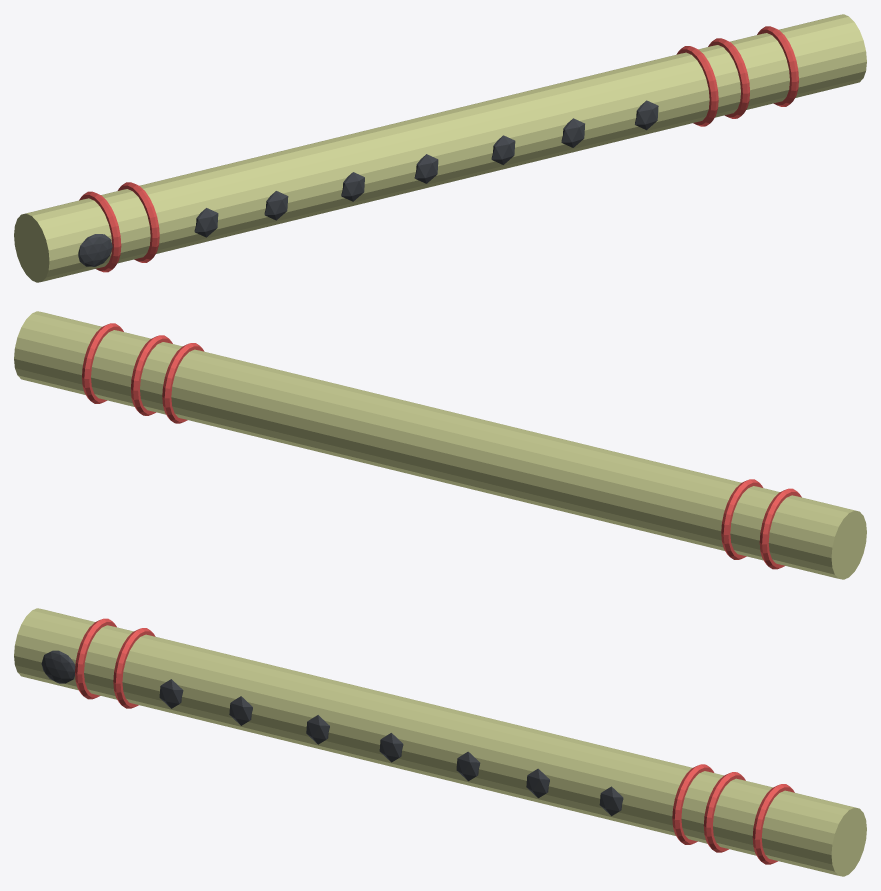
File: bamboo_takebue.glb
3 views of the same model, one above another, from view 1: azimuth 30°, elevation 25°; view 2: azimuth 150°, elevation 25°; view 3: azimuth 330°, elevation 25° (orthographic).
Visible parts, largest first — view 1: Dark lacquered shinobue tube, Shinobue red cord binding, Shinobue red cord binding.002, Shinobue red cord binding.004, Shinobue red cord binding.001, Shinobue red cord binding.003, Mouth hole, Finger hole on flute 3, Finger hole on flute 4; view 2: Dark lacquered shinobue tube, Shinobue red cord binding, Shinobue red cord binding.002, Shinobue red cord binding.004, Shinobue red cord binding.001, Shinobue red cord binding.003; view 3: Dark lacquered shinobue tube, Shinobue red cord binding, Shinobue red cord binding.002, Shinobue red cord binding.001, Shinobue red cord binding.003, Shinobue red cord binding.004, Mouth hole.
Part boxes in pixels (x1,y1,x2,y2): Dark lacquered shinobue tube: (14, 14, 866, 282); Shinobue red cord binding: (79, 191, 121, 272); Shinobue red cord binding.002: (676, 46, 718, 126); Shinobue red cord binding.004: (757, 26, 798, 106); Shinobue red cord binding.001: (117, 182, 159, 262); Shinobue red cord binding.003: (708, 38, 749, 118); Mouth hole: (78, 234, 112, 266); Finger hole on flute 3: (414, 154, 438, 183); Finger hole on flute 4: (491, 135, 515, 164); Dark lacquered shinobue tube: (14, 311, 866, 579); Shinobue red cord binding: (759, 488, 801, 569); Shinobue red cord binding.002: (162, 343, 204, 423); Shinobue red cord binding.004: (82, 323, 123, 403); Shinobue red cord binding.001: (721, 479, 763, 559); Shinobue red cord binding.003: (131, 335, 172, 415); Dark lacquered shinobue tube: (14, 608, 866, 876); Shinobue red cord binding: (75, 618, 116, 699); Shinobue red cord binding.002: (672, 764, 714, 844); Shinobue red cord binding.001: (113, 628, 155, 708); Shinobue red cord binding.003: (703, 772, 745, 852); Shinobue red cord binding.004: (752, 784, 794, 864); Mouth hole: (41, 650, 75, 683).
Bounding box in the file's own units: 1.95 × 0.1717 × 0.1725.
